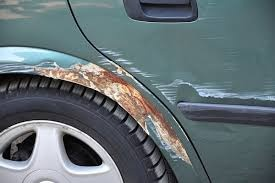Scratch: (21, 55, 200, 166), (94, 48, 275, 106)
